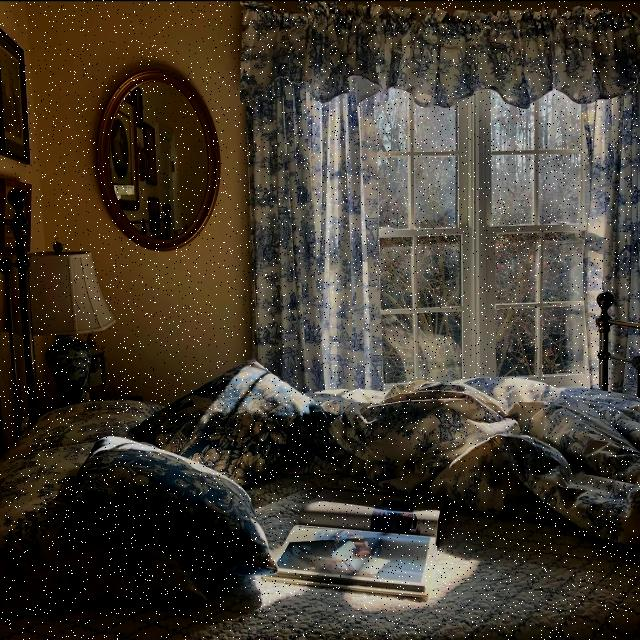bed: (1, 358, 639, 640)
